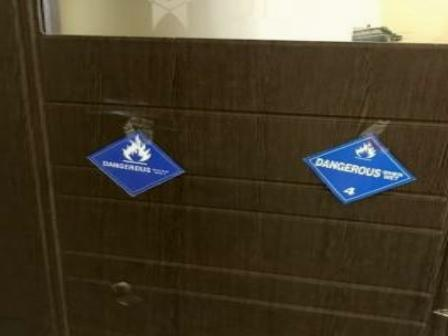dangerous-when-wet: (300, 134, 420, 207), (81, 130, 189, 201)
